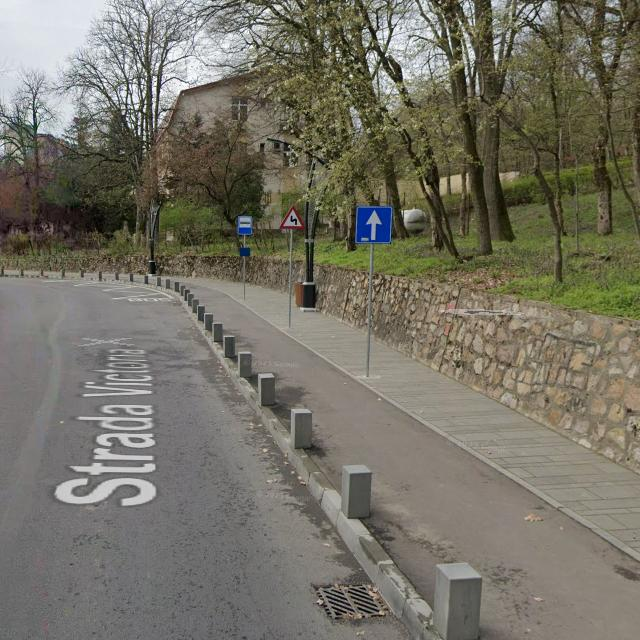info_bus_station: (238, 215, 252, 235)
info_one_way_traffic: (356, 206, 392, 243)
